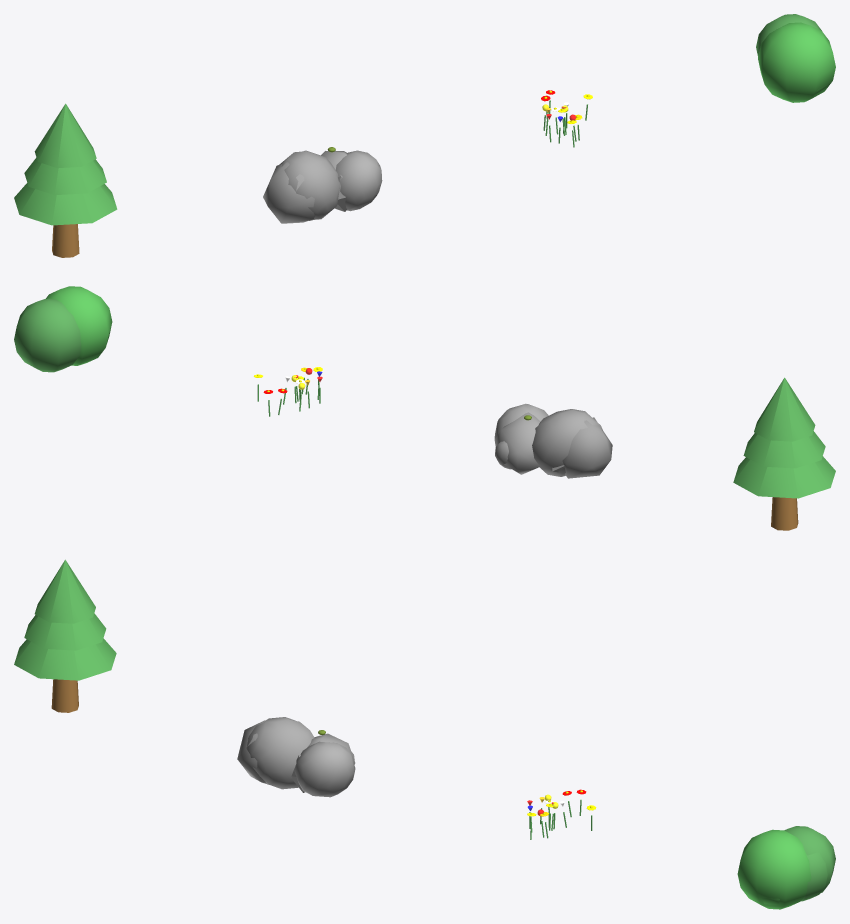
File: scenery_classic_mobile.glb
The picture shows the model from 3 angles, top to bottom: view 1: azimuth 30°, elevation 25°; view 2: azimuth 150°, elevation 25°; view 3: azimuth 330°, elevation 25°; orthographic projection.
Parts seen in each view (by area): view 1: tree_mesh (×4), rockFormation_mesh (×3), bushCluster_mesh (×2); view 2: tree_mesh (×4), rockFormation_mesh (×4), bushCluster_mesh (×2); view 3: tree_mesh (×4), rockFormation_mesh (×3), bushCluster_mesh (×3).
Boxes of the visible parts, bbox=[...] form: tree_mesh (×4): bbox=[14, 103, 117, 257]; rockFormation_mesh (×3): bbox=[263, 150, 382, 223]; bushCluster_mesh (×2): bbox=[756, 14, 835, 102]; tree_mesh (×4): bbox=[733, 377, 835, 530]; rockFormation_mesh (×4): bbox=[494, 403, 612, 478]; bushCluster_mesh (×2): bbox=[14, 286, 112, 372]; tree_mesh (×4): bbox=[14, 559, 116, 712]; rockFormation_mesh (×3): bbox=[237, 717, 355, 797]; bushCluster_mesh (×3): bbox=[737, 826, 835, 909].
Size of the model in its own units: 26.27 by 5.17 by 3.11.
